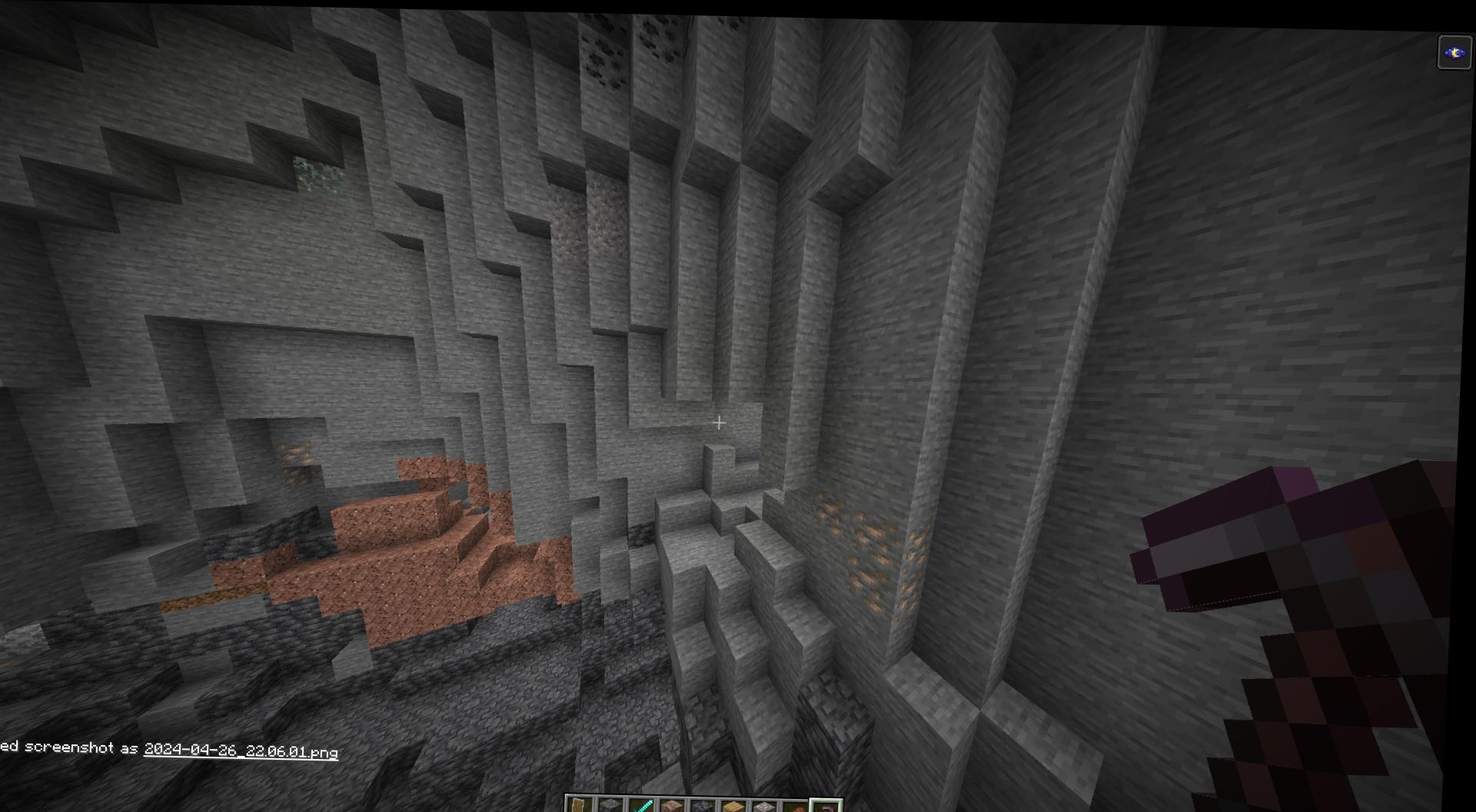iron ore: (847, 553, 899, 619), (854, 516, 913, 570), (279, 436, 321, 487), (819, 486, 859, 538), (899, 570, 936, 615), (911, 522, 941, 567)
